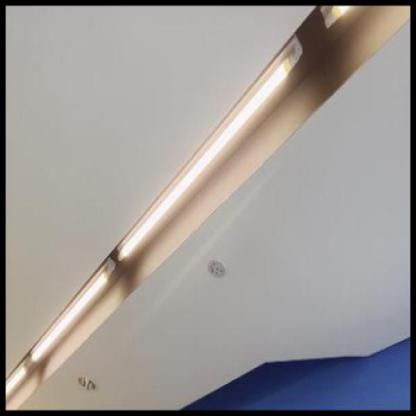light_on: (117, 27, 307, 268), (30, 245, 117, 380), (314, 6, 360, 42), (5, 353, 25, 402)
